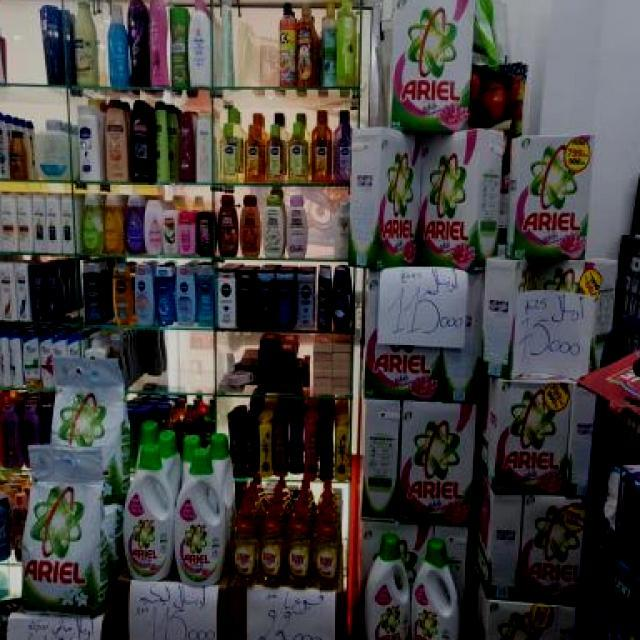Detergent: (17, 447, 106, 616), (414, 126, 502, 266), (388, 0, 474, 130), (510, 129, 595, 258), (392, 397, 476, 526), (350, 131, 420, 271), (488, 376, 572, 492), (122, 428, 176, 585), (518, 493, 585, 605), (176, 444, 227, 584), (408, 526, 463, 640), (363, 530, 412, 640), (483, 608, 557, 640)
